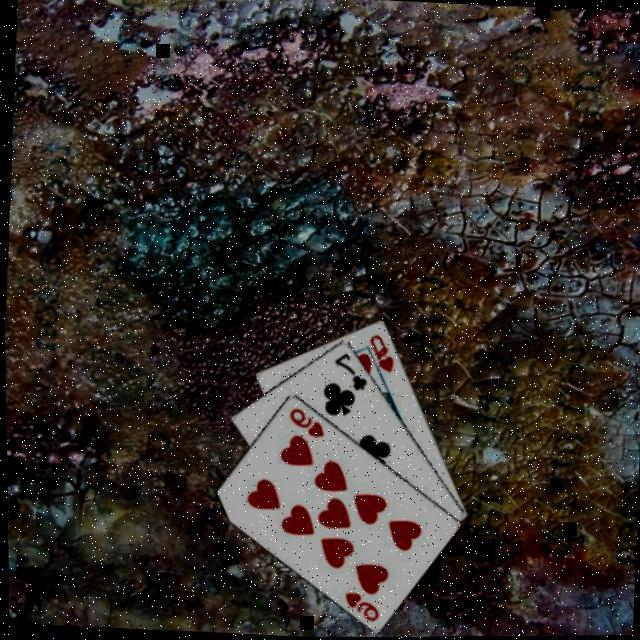7C: (327, 349, 369, 393)
9H: (336, 588, 378, 624), (281, 404, 324, 439)
QH: (362, 331, 395, 375)
